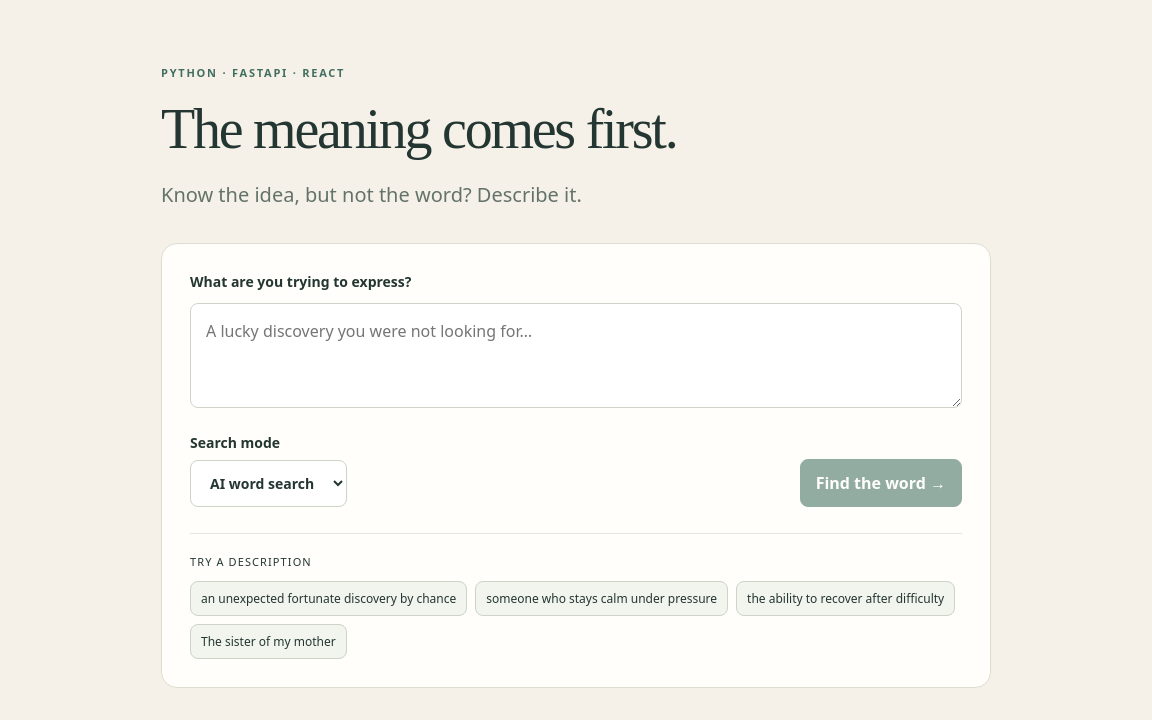
Test: shows provider failure without pretending local mode succeeded
Type "fortunate discovery" into the text box labelled "What are you trying to express?" at {"x": 576, "y": 356}, box [190,303,962,408]
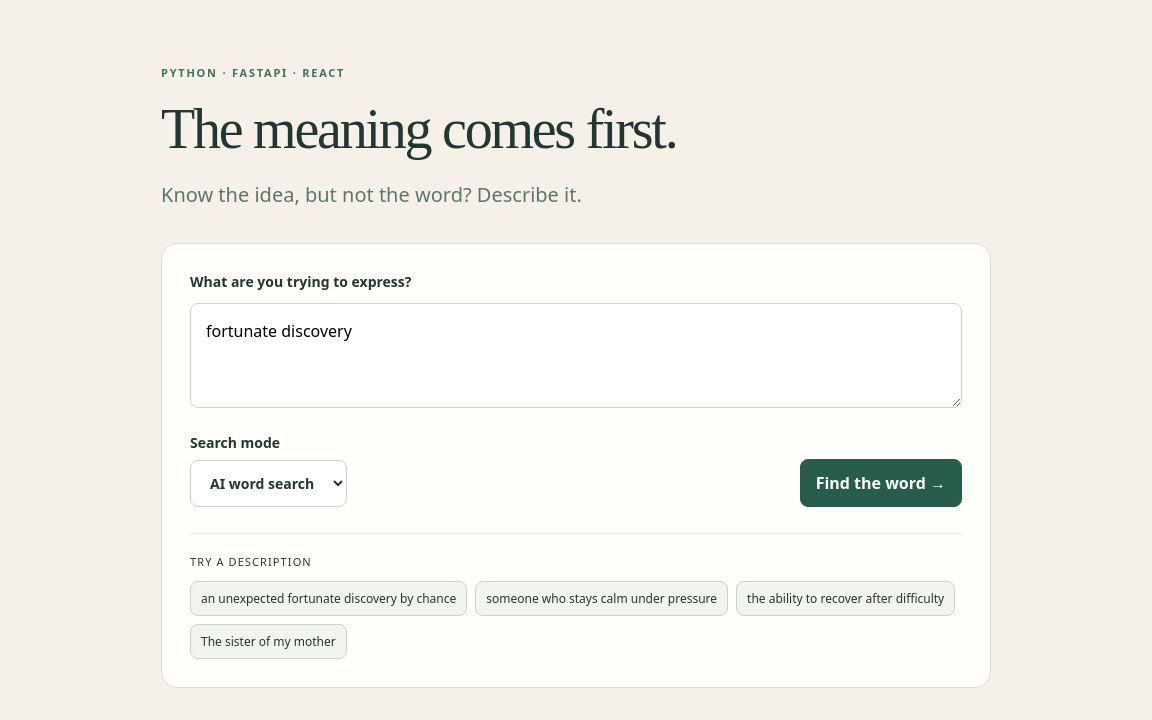
Click the button "Find the word →" at {"x": 881, "y": 483}, box [800,459,962,507]
(page scrolled)
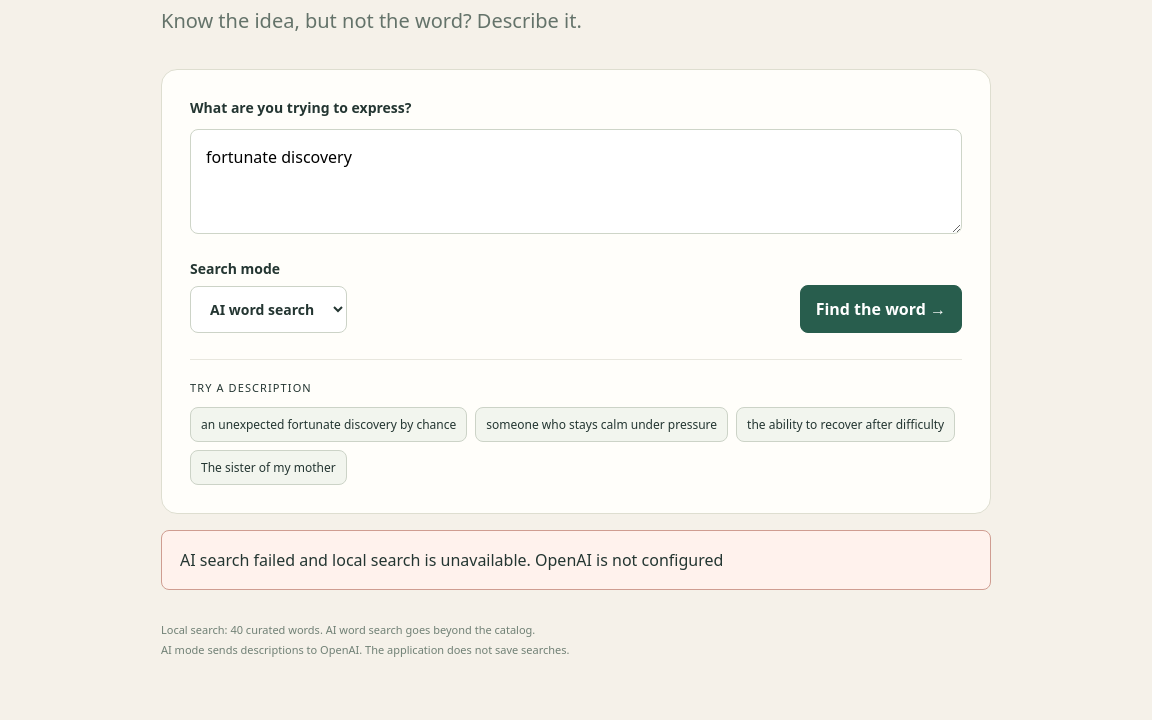
expect the message shows "OpenAI is not configured": met, box [180,549,723,571]
